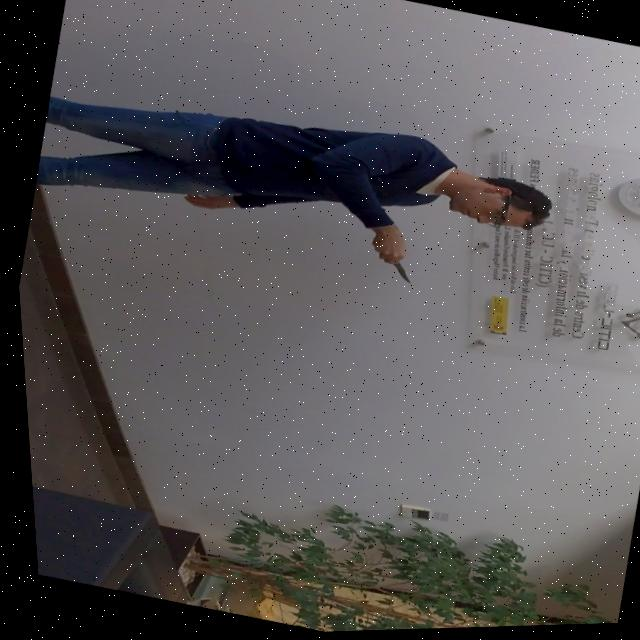knife: (385, 262, 412, 285)
